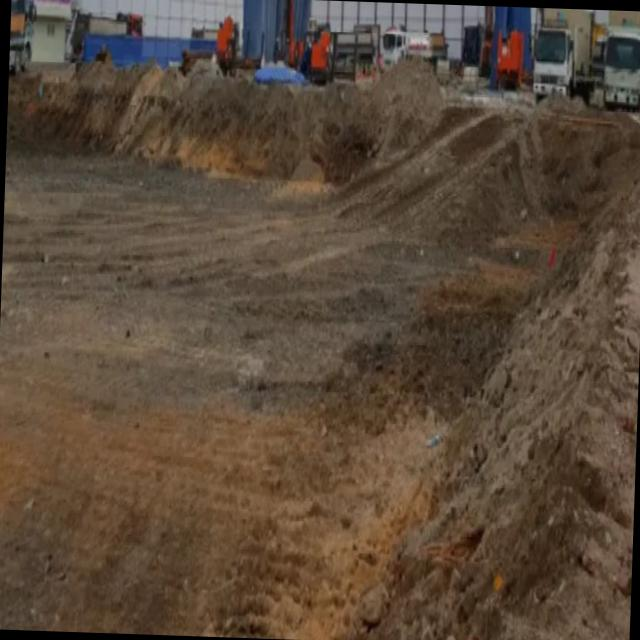red-sand: (0, 63, 640, 640)
